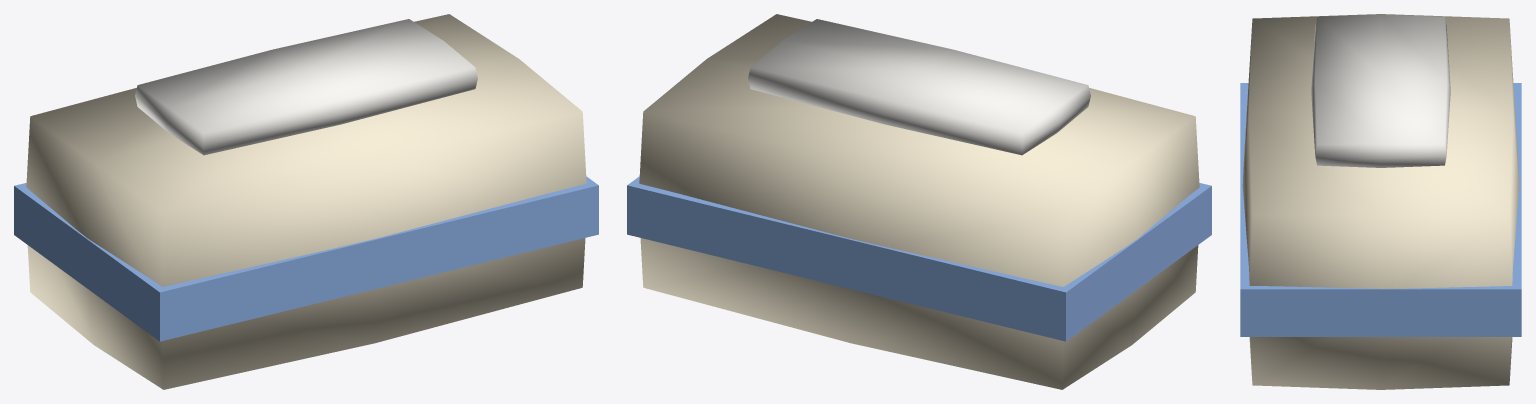
The model's file is tissue_box.glb.
3 views of the same model, side by side, from view 1: azimuth 30°, elevation 25°; view 2: azimuth 150°, elevation 25°; view 3: azimuth 270°, elevation 25° (orthographic). The views are drawn at different scales.
Parts seen in each view (by area): view 1: root; view 2: root; view 3: root.
Part boxes in pixels (left/top/right/bottom): root: left=14, top=14, right=598, bottom=389; root: left=627, top=14, right=1211, bottom=389; root: left=1240, top=14, right=1521, bottom=389.
Size of the model in its own units: 0.28 by 0.14 by 0.161.
